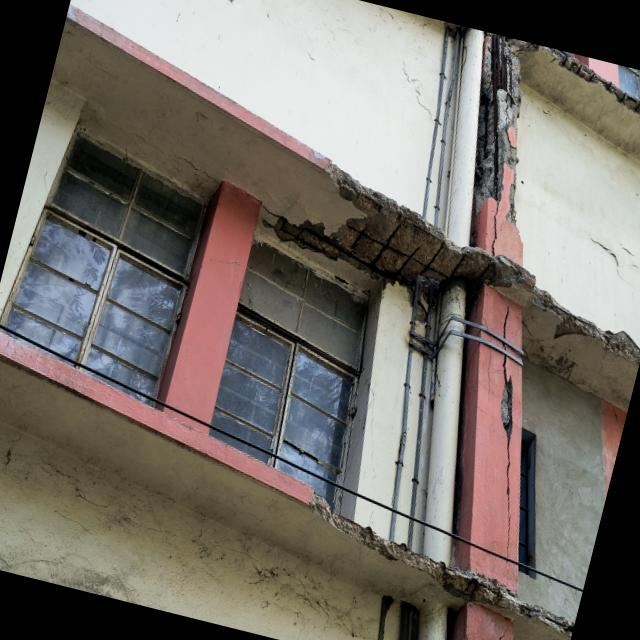Crack: (498, 301, 514, 569)
Spalling: (257, 165, 640, 364), (310, 486, 574, 640), (470, 33, 532, 266), (542, 46, 640, 121)
